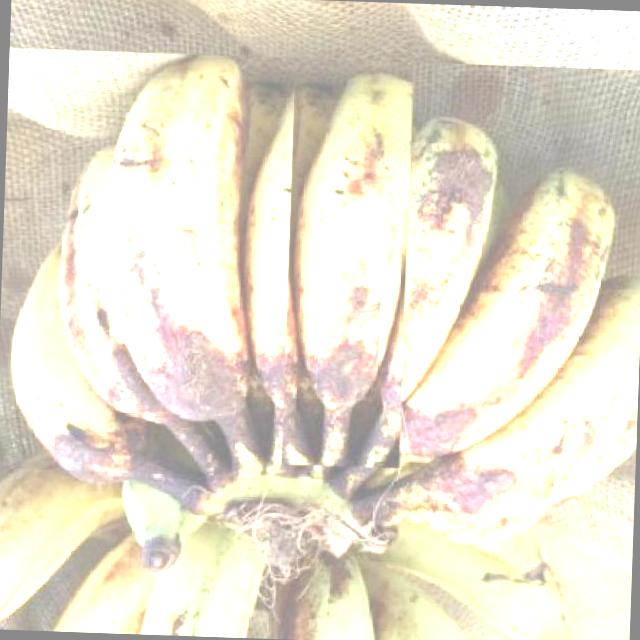Banana: (0, 46, 640, 552), (0, 454, 576, 640)
